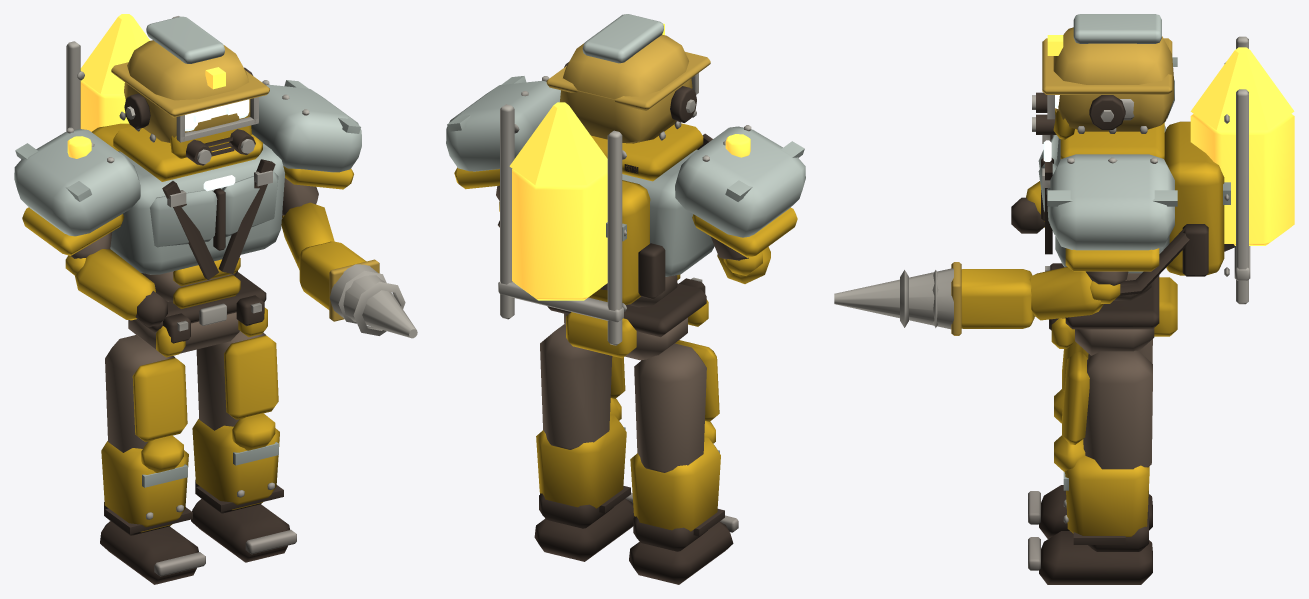
File: worker.glb
3 views of the same model, side by side, from view 1: azimuth 30°, elevation 25°; view 2: azimuth 150°, elevation 25°; view 3: azimuth 270°, elevation 25° (orthographic). The views are drawn at different scales.
Visible parts, largest first — view 1: Chest, Armor, Shin, Shin.001, Steel, Gear, Helmet, Cargo, Leg_suit, Suit, Boot, Boot.001 (+11 smaller); view 2: Chest, Cargo, Helmet, Armor, Steel, Leg_suit, Shin, Leg_suit.001, Shin.001, Gear, Boot, Boot.001 (+3 smaller); view 3: Armor, Cargo, Chest, Helmet, Steel, Shin.001, Gear, Leg_suit.001, Pack, Boot.001, Helmet_crest, Suit (+3 smaller).
Boxes of the visible parts, <box> form: Chest: <box>14,80,361,274</box>; Armor: <box>22,116,366,357</box>; Shin: <box>101,357,188,532</box>; Shin.001: <box>192,335,279,509</box>; Steel: <box>66,16,417,338</box>; Gear: <box>124,67,282,343</box>; Helmet: <box>111,40,269,142</box>; Cargo: <box>67,14,225,158</box>; Leg_suit: <box>105,335,174,452</box>; Suit: <box>71,178,318,353</box>; Boot: <box>100,502,198,584</box>; Boot.001: <box>191,480,290,562</box>; Chest: <box>446,76,805,276</box>; Cargo: <box>509,23,750,300</box>; Helmet: <box>546,34,710,143</box>; Armor: <box>454,123,797,358</box>; Steel: <box>498,73,751,345</box>; Leg_suit: <box>634,343,706,472</box>; Shin: <box>630,340,720,531</box>; Leg_suit.001: <box>540,324,612,449</box>; Shin.001: <box>536,356,626,508</box>; Gear: <box>498,62,712,337</box>; Boot: <box>629,516,733,584</box>; Boot.001: <box>534,493,633,561</box>; Armor: <box>961,110,1177,348</box>; Cargo: <box>1047,35,1294,245</box>; Chest: <box>1038,57,1230,273</box>; Helmet: <box>1042,27,1173,131</box>; Steel: <box>834,36,1250,329</box>; Shin.001: <box>1054,352,1149,536</box>; Gear: <box>1011,92,1234,330</box>; Leg_suit.001: <box>1083,350,1152,469</box>; Pack: <box>1164,121,1224,275</box>; Boot.001: <box>1039,511,1152,584</box>; Helmet_crest: <box>1073,14,1161,43</box>; Suit: <box>1075,271,1154,355</box>.
Size of the model in its own units: 1.42 by 2.25 by 1.77.
